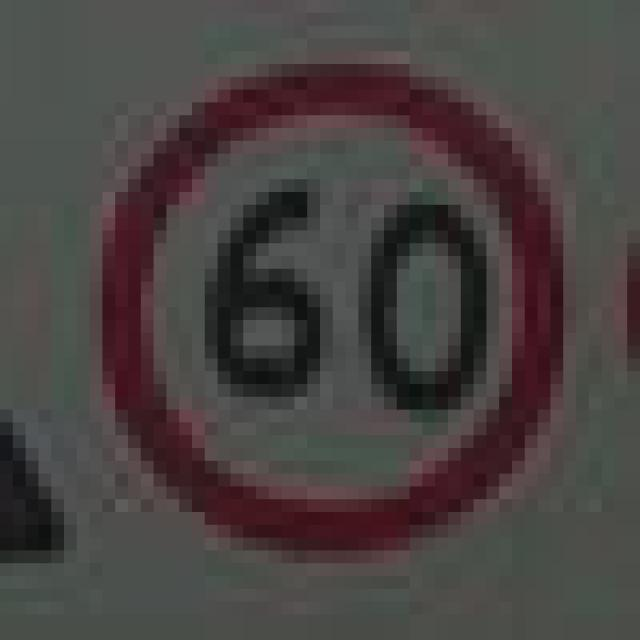SPEED_LIMIT_60: (90, 51, 550, 538)
